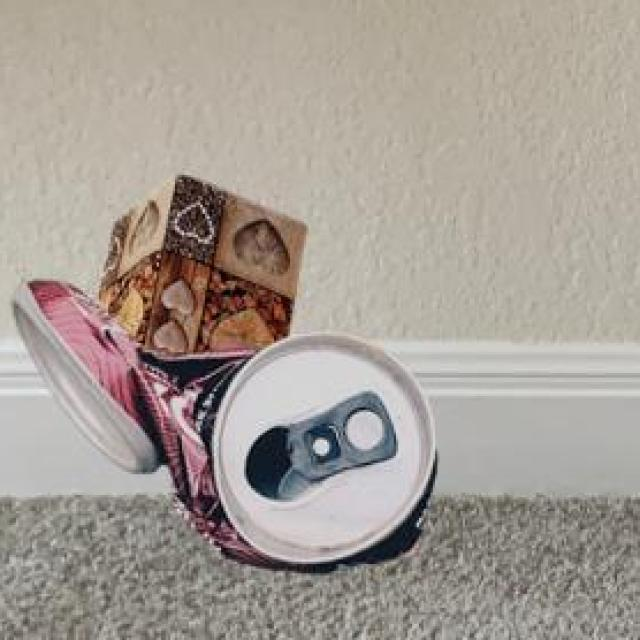logam: (15, 277, 441, 570), (102, 172, 310, 351)
